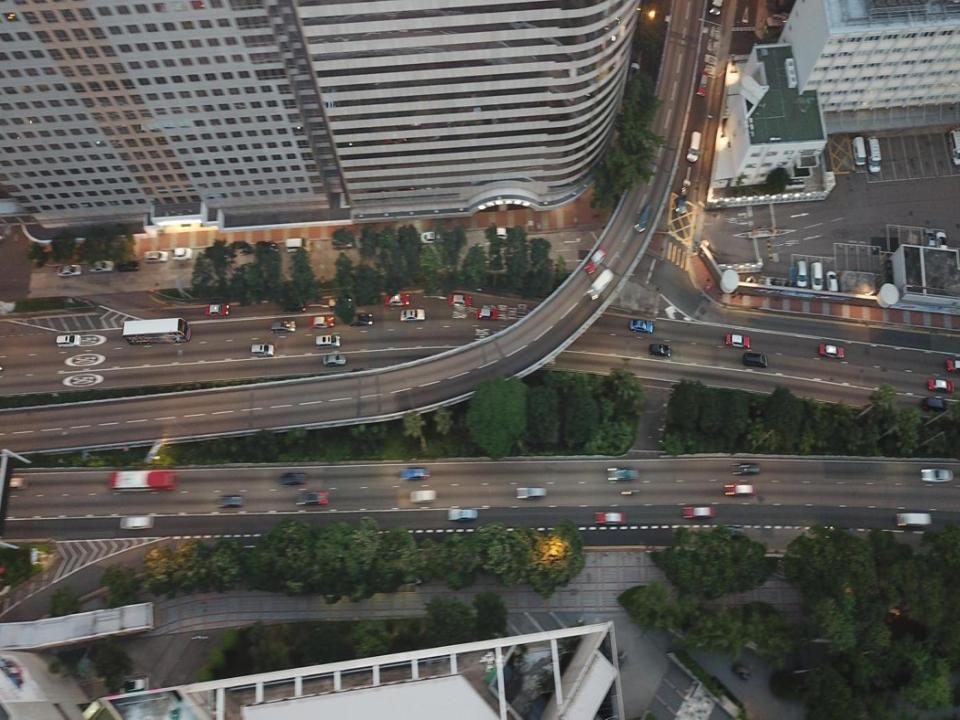bus: (122, 318, 191, 344), (587, 268, 614, 300), (865, 136, 882, 174), (851, 136, 866, 166), (949, 129, 960, 165), (708, 0, 724, 15)
car: (584, 246, 608, 275), (594, 510, 627, 524), (295, 491, 328, 505), (608, 468, 639, 482), (724, 483, 757, 496), (119, 516, 154, 528), (921, 469, 953, 482), (928, 378, 954, 393), (278, 472, 308, 485), (447, 508, 478, 520), (400, 468, 431, 480), (695, 70, 708, 98), (683, 506, 715, 517), (491, 228, 518, 241), (347, 313, 373, 326), (726, 334, 750, 348), (449, 293, 471, 308), (89, 260, 114, 273), (935, 231, 948, 256), (630, 319, 653, 333), (820, 344, 843, 358), (420, 231, 446, 243), (4, 476, 28, 489), (400, 309, 425, 321), (309, 315, 334, 327), (205, 303, 228, 316), (826, 270, 838, 294), (924, 228, 936, 252), (283, 300, 306, 312), (57, 265, 82, 276), (476, 308, 498, 320), (385, 294, 409, 305), (215, 496, 243, 505), (118, 261, 140, 272), (323, 354, 346, 364), (947, 359, 960, 372)
truck: (109, 470, 178, 492)
van: (635, 204, 653, 232), (895, 513, 932, 526), (686, 130, 701, 162), (921, 397, 949, 413), (810, 262, 823, 292), (795, 260, 808, 290), (285, 238, 311, 252), (55, 334, 81, 348), (743, 353, 768, 367), (515, 487, 546, 498), (316, 335, 342, 348), (409, 490, 437, 502), (730, 463, 760, 474), (252, 343, 274, 357), (143, 250, 168, 262), (270, 320, 295, 332), (676, 187, 687, 214), (332, 236, 354, 249), (648, 344, 670, 357), (172, 246, 192, 260)
